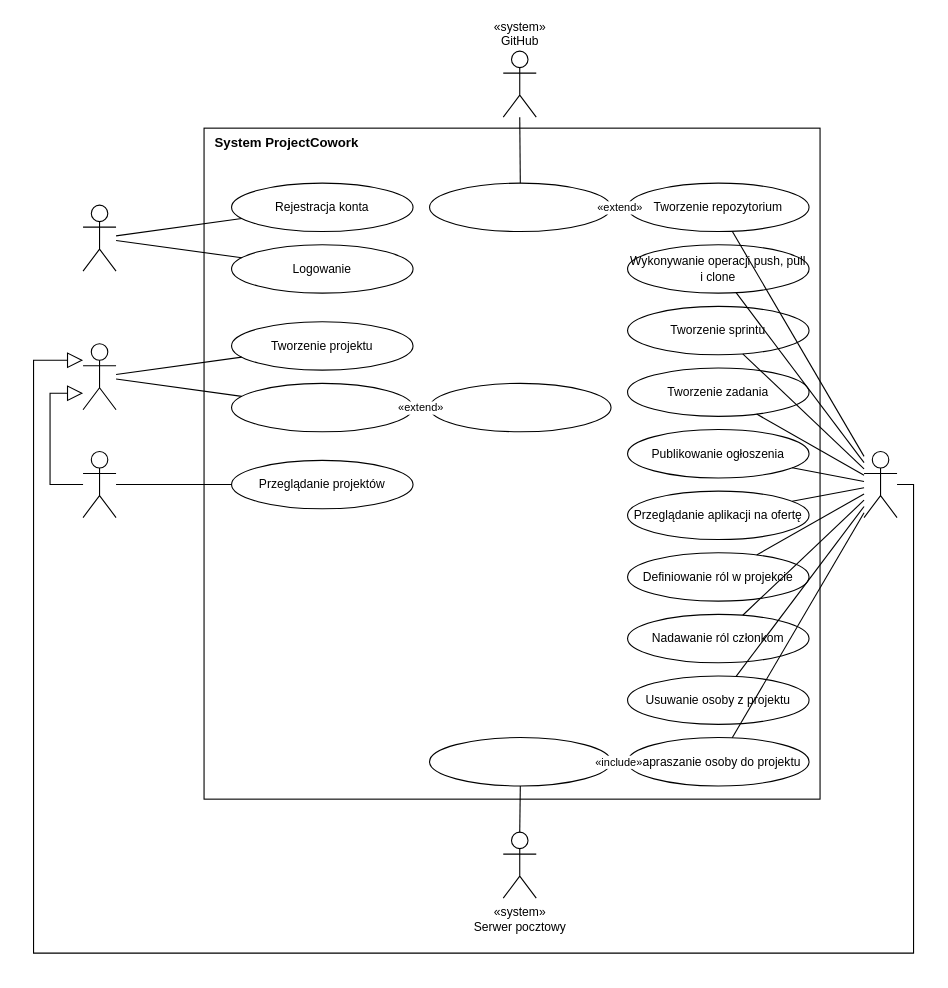
Image size: 948x988. Some labels were removed from this diagram. Each missing label, with the centre of its shape:
Aplikowanie na ofertę: the point at 519,407
Biznes: the point at 99,484
Członek projektu: the point at 880,484
Gość: the point at 99,237
Importowanie repozytorium z GitHub: the point at 519,207
Przeglądanie ogłoszeń: the point at 321,407
Użytkownik: the point at 99,376
Wysyłanie zaproszenia e-mail: the point at 519,761
